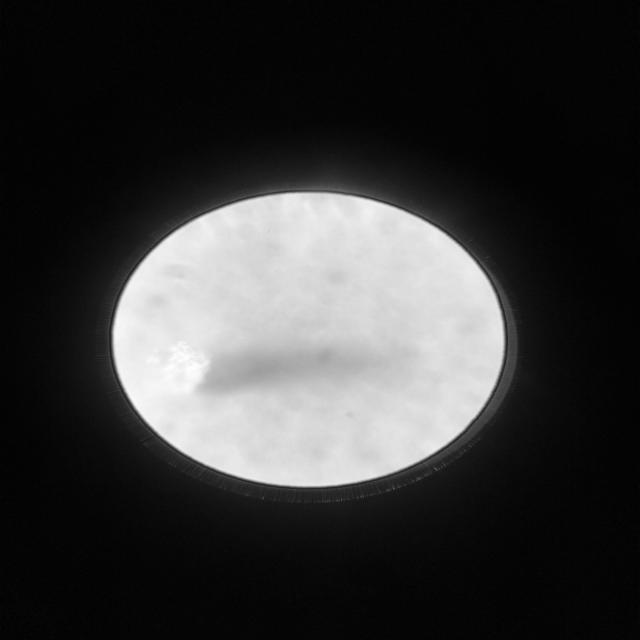microplastic_type_1: (143, 341, 211, 394)
